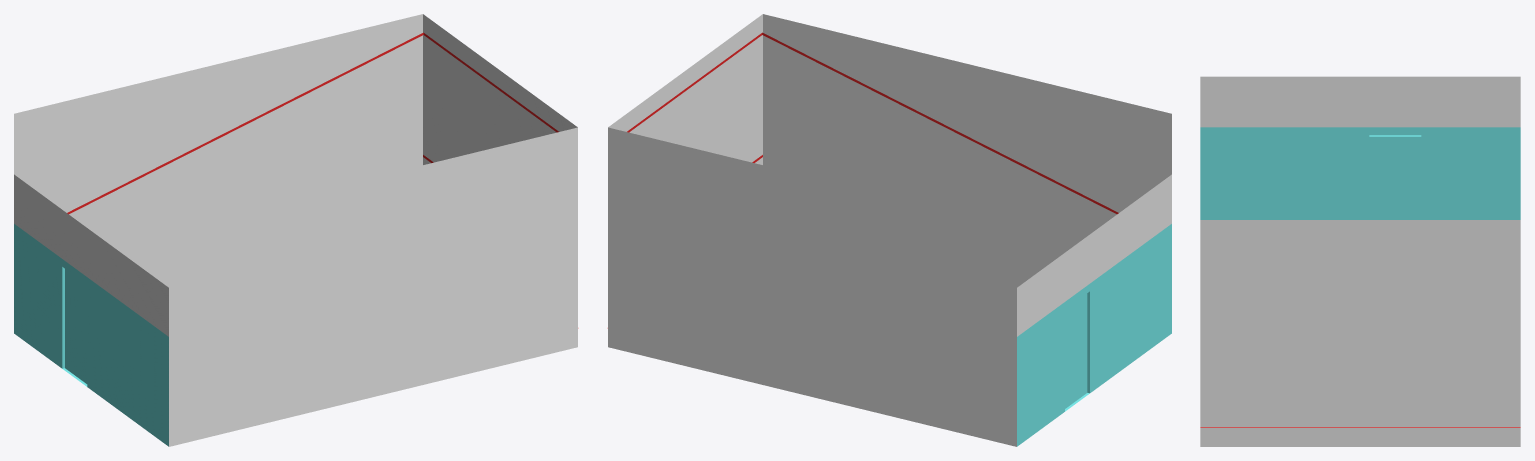
Rendered from Squash_Field.fbx.
The picture shows the model from 3 angles, left to right: view 1: azimuth 30°, elevation 25°; view 2: azimuth 150°, elevation 25°; view 3: azimuth 270°, elevation 25°; orthographic projection. The views are drawn at different scales.
Parts seen in each view (by area): view 1: Squash_Field; view 2: Squash_Field; view 3: Squash_Field.
Part boxes in pixels (x1=…): Squash_Field: x1=14, y1=14, x2=578, y2=446; Squash_Field: x1=607, y1=14, x2=1171, y2=446; Squash_Field: x1=1200, y1=76, x2=1520, y2=446.
Bounding box in the file's own units: 977 × 501 × 640.
